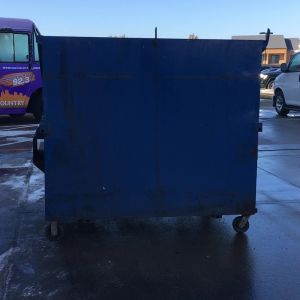Dumpster: (30, 20, 272, 242)
